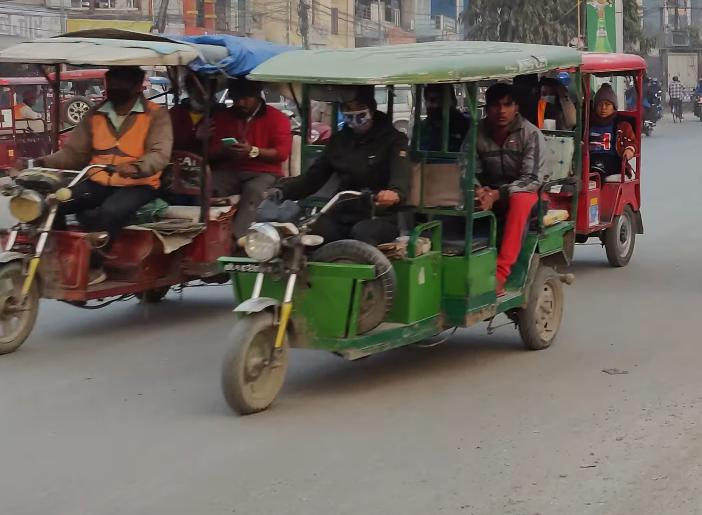e-rickshaw: (218, 28, 576, 423), (3, 24, 279, 354)
